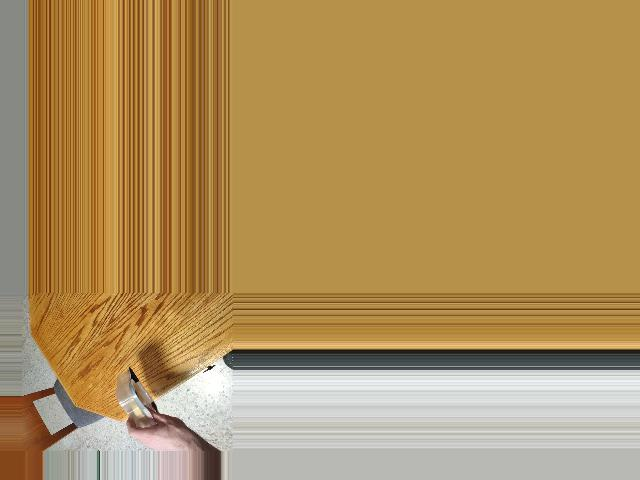cheese: (99, 381, 181, 442)
